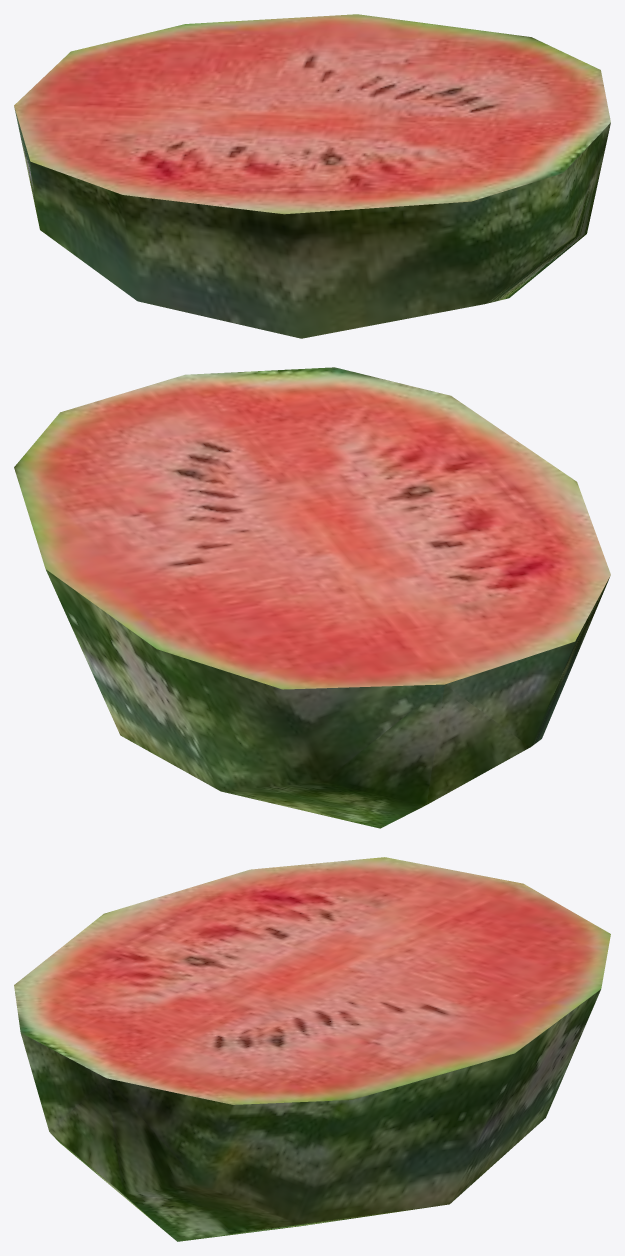
The picture shows the model from 3 angles, top to bottom: view 1: azimuth 30°, elevation 25°; view 2: azimuth 150°, elevation 25°; view 3: azimuth 270°, elevation 25°; orthographic projection. The views are drawn at different scales.
Visible parts, largest first — view 1: Watermelon_01003_Foods_0; view 2: Watermelon_01003_Foods_0; view 3: Watermelon_01003_Foods_0.
Boxes of the visible parts, x1,y1,x2,y2 form: Watermelon_01003_Foods_0: [14, 14, 610, 338]; Watermelon_01003_Foods_0: [14, 367, 610, 828]; Watermelon_01003_Foods_0: [14, 857, 610, 1241].
Size of the model in its own units: 0.4577 by 0.1985 by 0.4285.
1 material, 1 textured.
